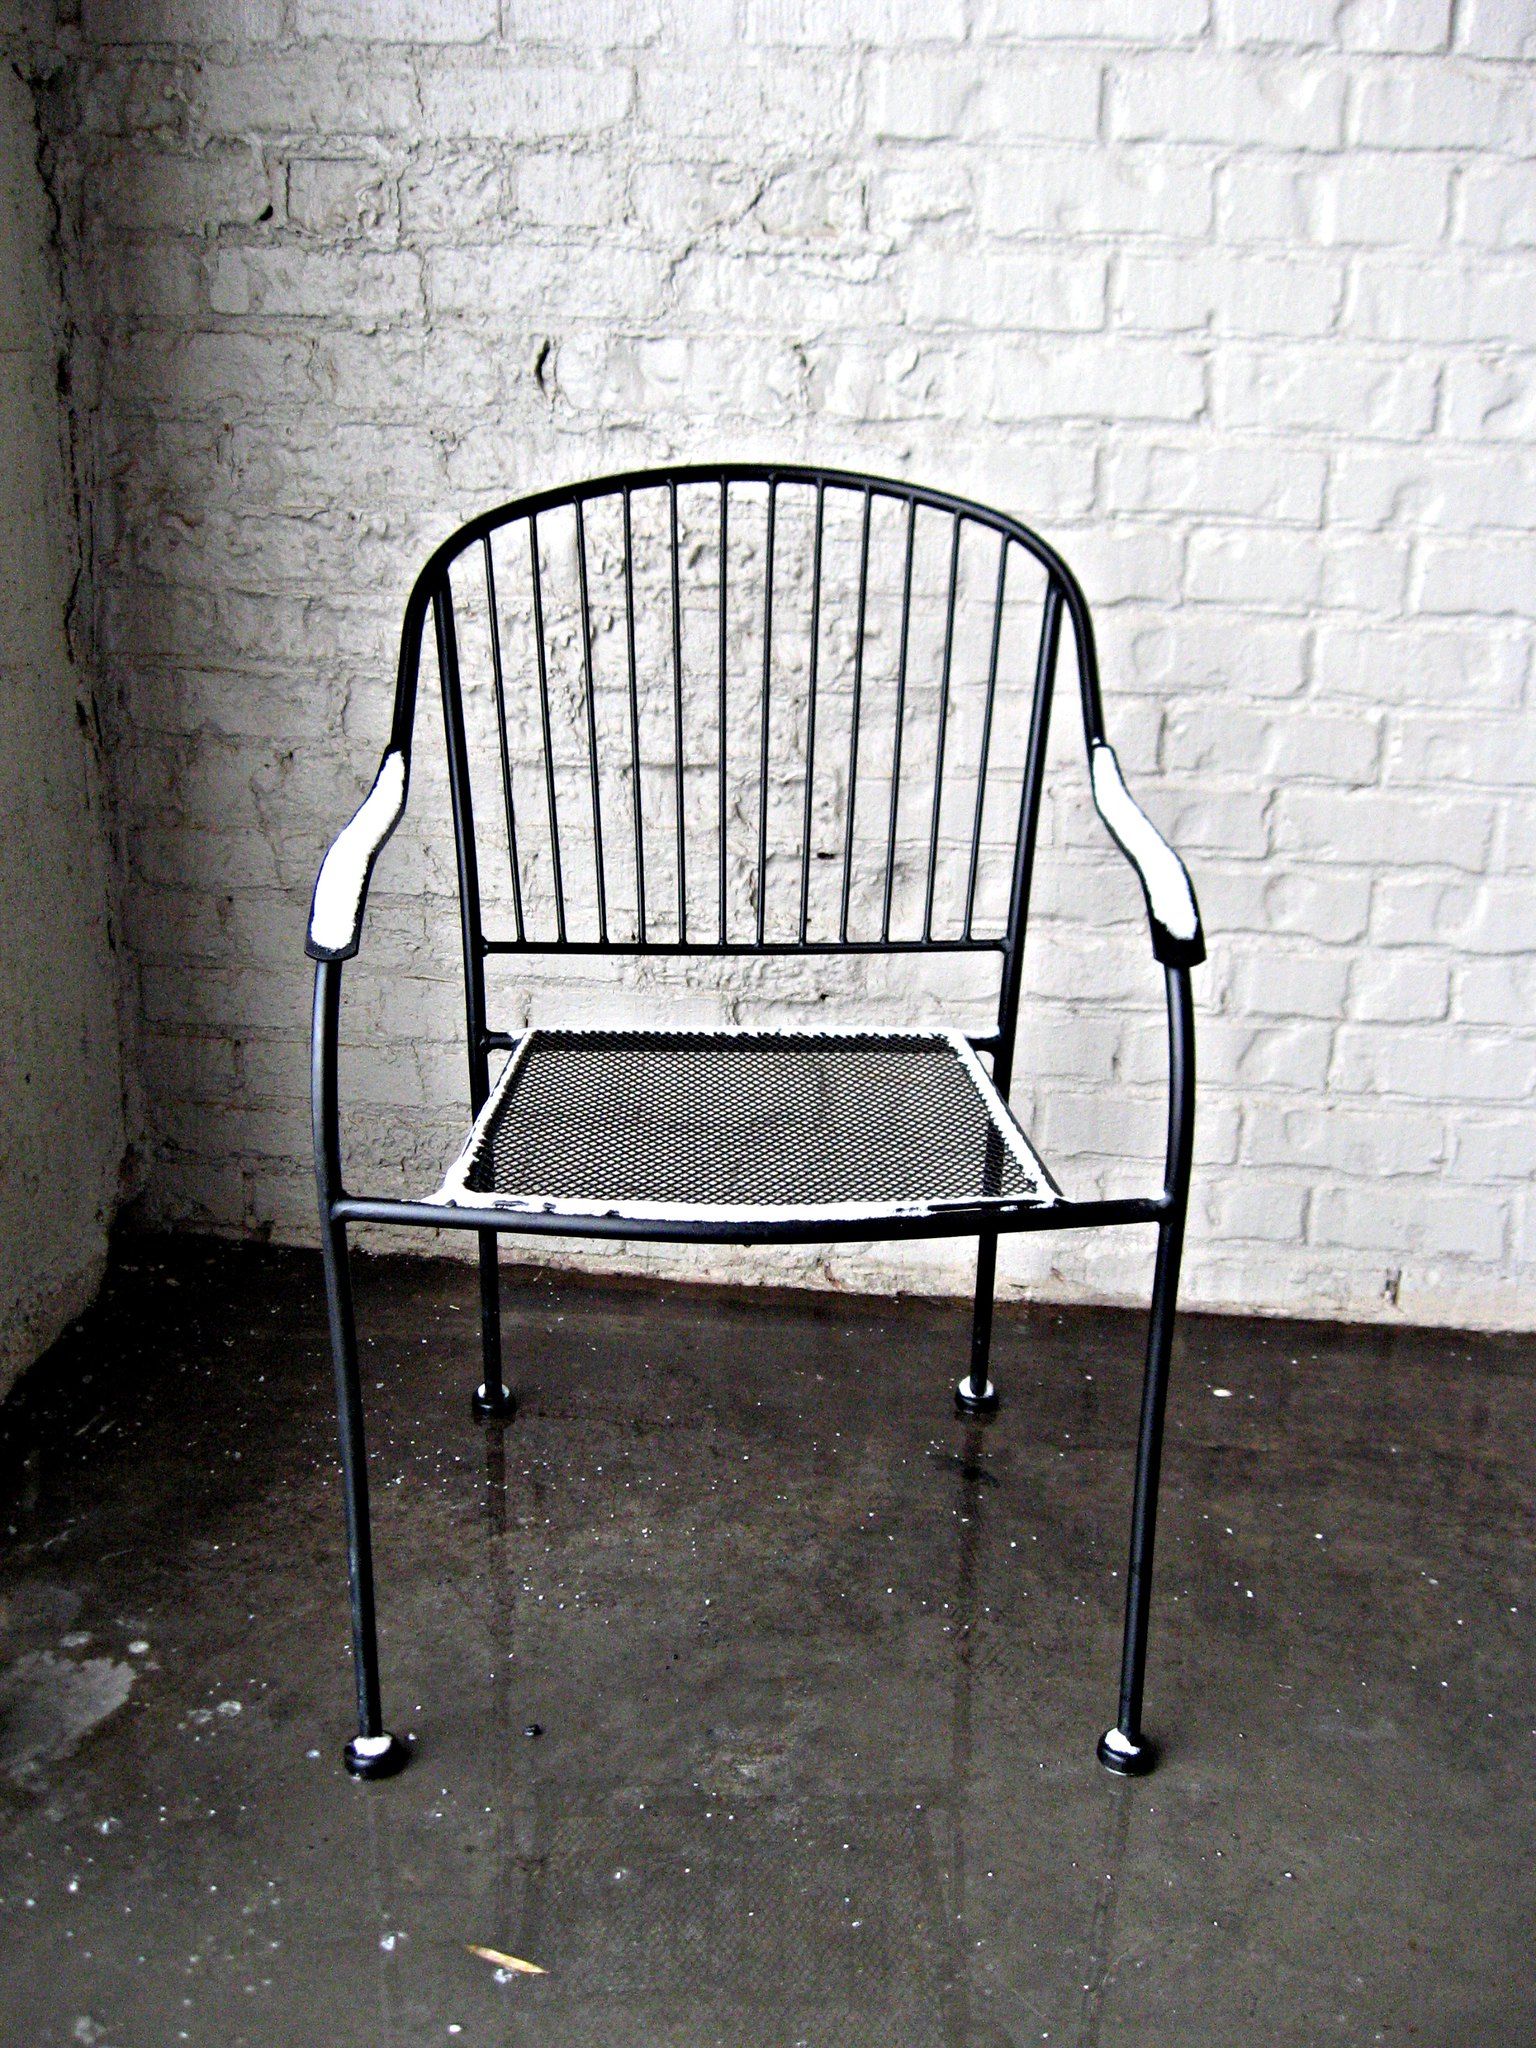chair: (145, 419, 1288, 1867)
